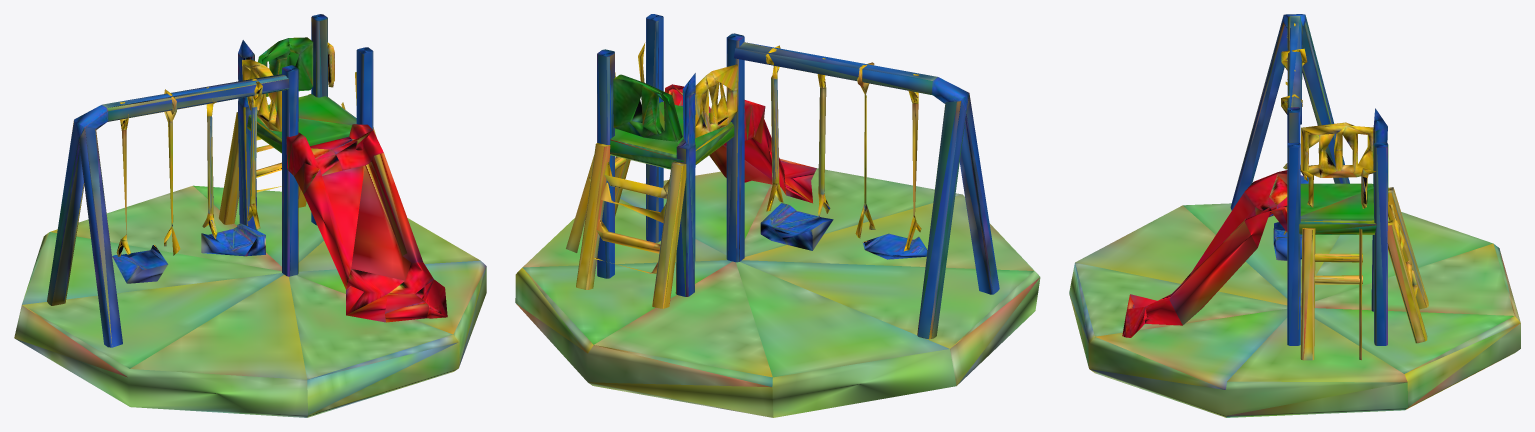
Rendered from 40-playground.glb.
The picture shows the model from 3 angles, left to right: view 1: azimuth 30°, elevation 25°; view 2: azimuth 150°, elevation 25°; view 3: azimuth 270°, elevation 25°; orthographic projection. The views are drawn at different scales.
Parts seen in each view (by area): view 1: geometry_0; view 2: geometry_0; view 3: geometry_0.
Part boxes in pixels (x1,y1,x2,y2): geometry_0: [14, 14, 486, 417]; geometry_0: [515, 14, 1040, 417]; geometry_0: [1069, 14, 1520, 417].
Bounding box in the file's own units: 0.9424 × 0.5611 × 0.9497.
1 material, 1 textured.
